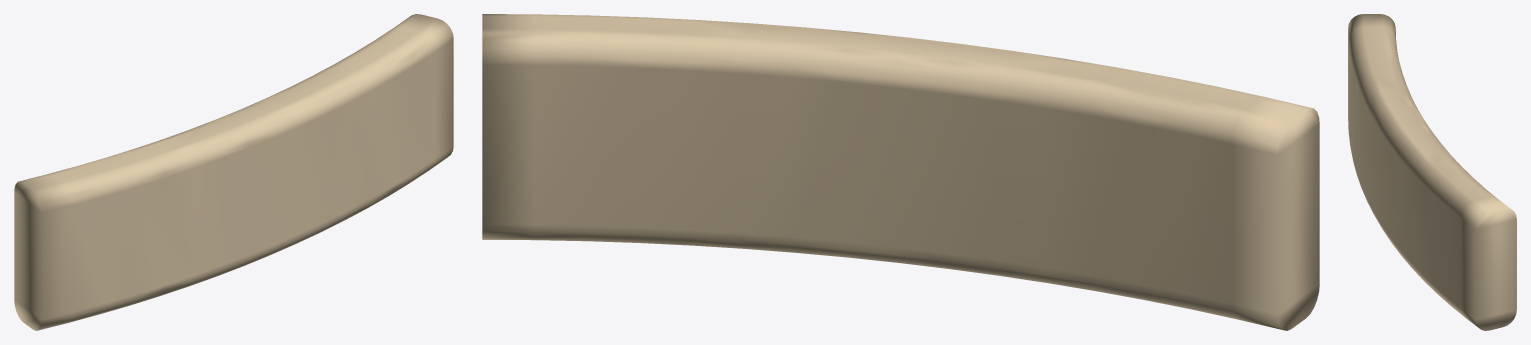
File: ArcParapet_R4_A30.glb
3 views of the same model, side by side, from view 1: azimuth 30°, elevation 25°; view 2: azimuth 150°, elevation 25°; view 3: azimuth 270°, elevation 25° (orthographic). The views are drawn at different scales.
Visible parts, largest first — view 1: PBK_Parapet.014; view 2: PBK_Parapet.014; view 3: PBK_Parapet.014.
Boxes of the visible parts, x1,y1,x2,y2 form: PBK_Parapet.014: [14, 14, 453, 330]; PBK_Parapet.014: [482, 14, 1319, 330]; PBK_Parapet.014: [1348, 14, 1516, 330].
Bounding box in the file's own units: 2 × 0.55 × 0.7091.
